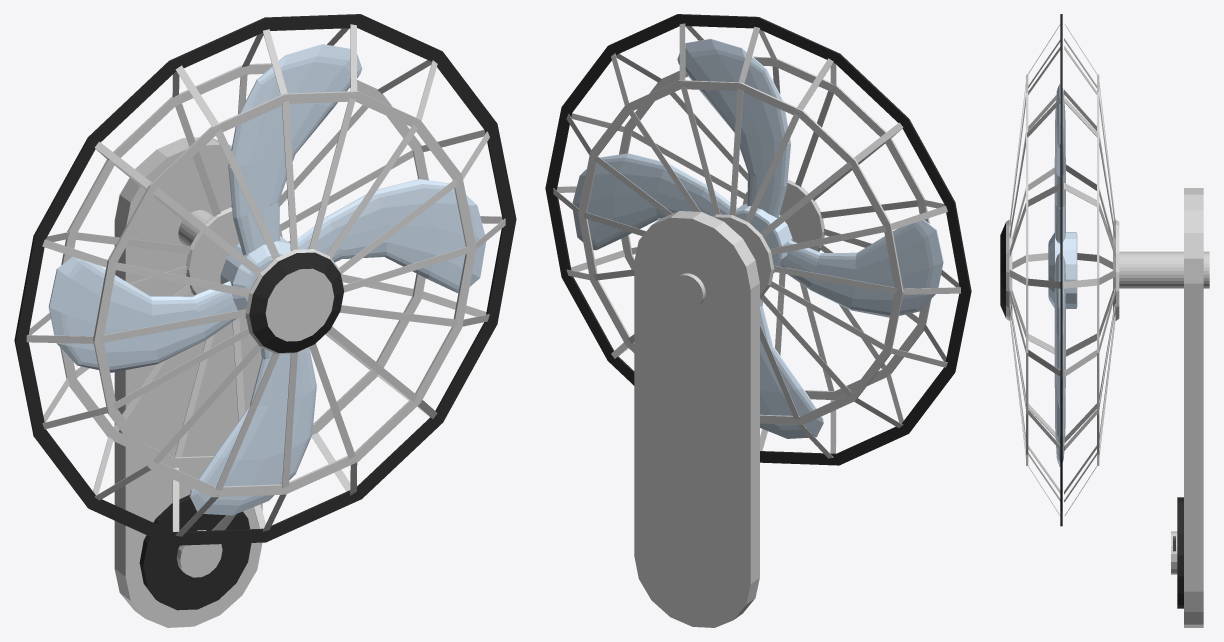
Rendered from 선풍기_M.fbx.
The picture shows the model from 3 angles, left to right: view 1: azimuth 30°, elevation 25°; view 2: azimuth 150°, elevation 25°; view 3: azimuth 270°, elevation 25°; orthographic projection. The views are drawn at different scales.
Parts seen in each view (by area): view 1: outPen, Pan, Circle, Circle.001, Circle.002; view 2: outPen, Circle, Pan; view 3: outPen, Circle, Pan, Circle.001.
Boxes of the visible parts, x1,y1,x2,y2 form: outPen: (14,14,516,545); Pan: (48,44,486,515); Circle: (114,137,262,627); Circle.001: (139,495,251,610); Circle.002: (176,530,222,577); outPen: (545,14,971,465); Circle: (634,211,759,627); Pan: (572,38,943,438); outPen: (1000,14,1209,526); Circle: (1184,188,1203,627); Pan: (1048,83,1077,466); Circle.001: (1177,497,1183,608).
Bounding box in the file's own units: 785 × 986 × 320.
